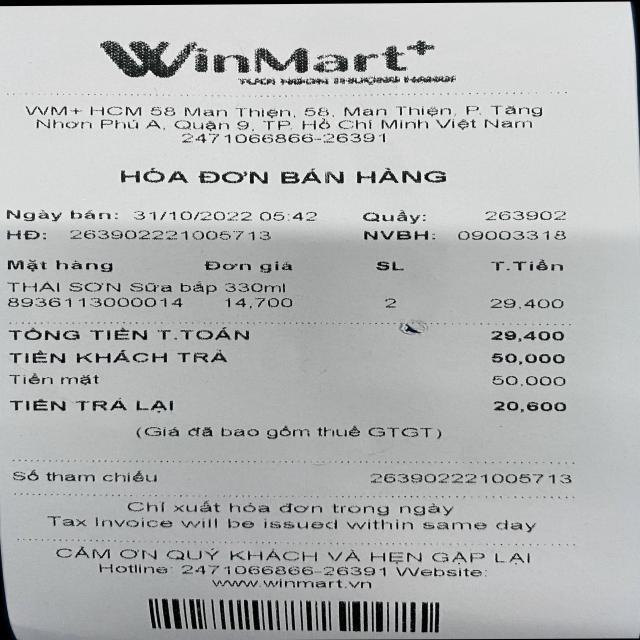Date: (130, 204, 256, 224)
Store_Name: (78, 33, 484, 93)
amount_number: (470, 324, 572, 344)
label_total: (3, 326, 255, 346)
